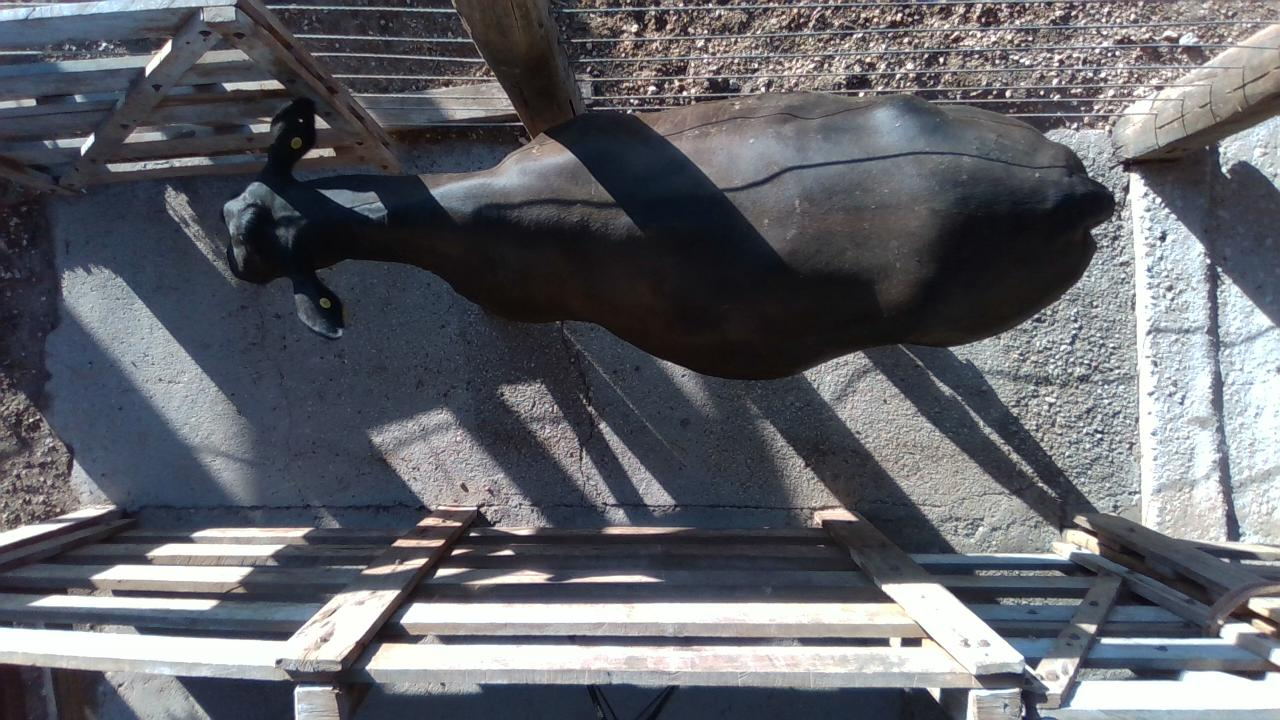cattle: (220, 88, 1115, 382)
